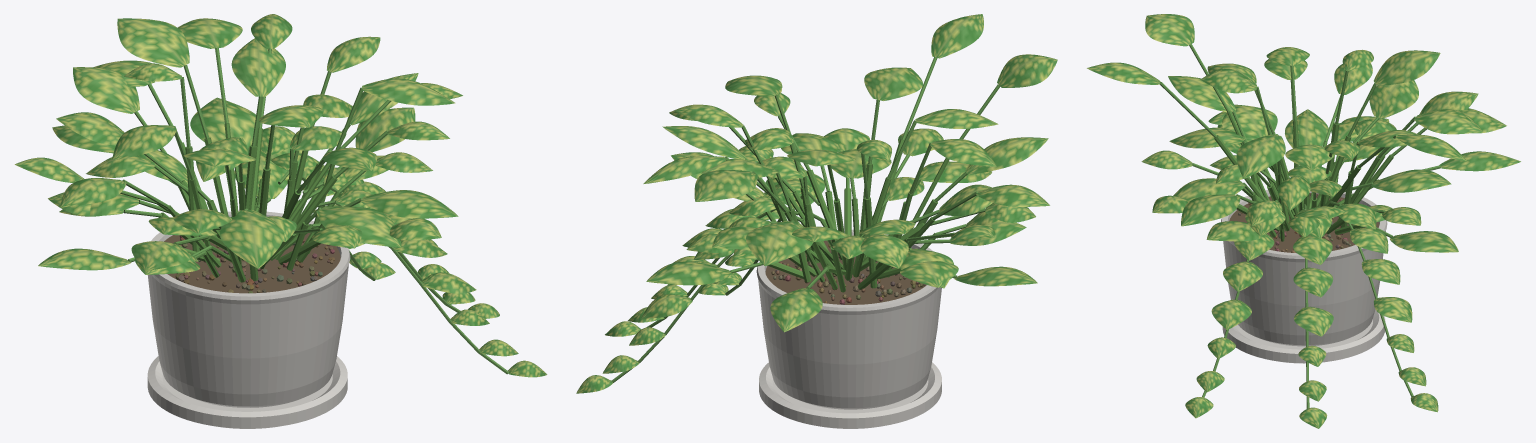
The model's file is Pothos_LUMA_3D.glb.
The picture shows the model from 3 angles, left to right: view 1: azimuth 30°, elevation 25°; view 2: azimuth 150°, elevation 25°; view 3: azimuth 270°, elevation 25°; orthographic projection. The views are drawn at different scales.
Visible parts, largest first — view 1: white ceramic pot, white saucer, dark soil, variegated pothos leaf_14, variegated pothos leaf_28, variegated pothos leaf_40, variegated pothos leaf_3, variegated pothos leaf_44, variegated pothos leaf_11, variegated pothos leaf_31, variegated pothos leaf_39, variegated pothos leaf_29 (+34 smaller); view 2: white ceramic pot, white saucer, dark soil, variegated pothos leaf_27, variegated pothos leaf_24, variegated pothos leaf_19, variegated pothos leaf_36, variegated pothos leaf_15, variegated pothos leaf_7, variegated pothos leaf_16, variegated pothos leaf_41, variegated pothos leaf_42 (+34 smaller); view 3: white ceramic pot, white saucer, variegated pothos leaf_14, variegated pothos leaf_39, variegated pothos leaf_7, variegated pothos leaf_9, variegated pothos leaf_31, variegated pothos leaf_11, variegated pothos leaf_41, variegated pothos leaf_24, variegated pothos leaf_33, variegated pothos leaf_16 (+43 smaller).
Boxes of the visible parts, x1,y1,x2,y2 form: white ceramic pot: [147, 211, 350, 407]; white saucer: [147, 356, 347, 428]; dark soil: [164, 233, 340, 293]; variegated pothos leaf_14: [117, 18, 189, 67]; variegated pothos leaf_28: [219, 209, 284, 268]; variegated pothos leaf_40: [73, 67, 139, 113]; variegated pothos leaf_3: [231, 38, 285, 96]; variegated pothos leaf_44: [316, 206, 401, 247]; variegated pothos leaf_11: [190, 97, 255, 148]; variegated pothos leaf_31: [360, 190, 458, 218]; variegated pothos leaf_39: [362, 78, 455, 105]; variegated pothos leaf_29: [355, 107, 415, 152]; white ceramic pot: [756, 229, 941, 409]; white saucer: [759, 362, 941, 428]; dark soil: [765, 240, 926, 304]; variegated pothos leaf_27: [746, 221, 813, 265]; variegated pothos leaf_24: [694, 170, 757, 201]; variegated pothos leaf_19: [770, 288, 822, 332]; variegated pothos leaf_36: [931, 14, 983, 58]; variegated pothos leaf_15: [864, 67, 922, 100]; variegated pothos leaf_7: [997, 54, 1057, 87]; variegated pothos leaf_16: [646, 261, 732, 285]; variegated pothos leaf_41: [965, 137, 1048, 174]; variegated pothos leaf_42: [662, 126, 746, 159]; white ceramic pot: [1221, 190, 1387, 346]; white saucer: [1222, 309, 1385, 363]; variegated pothos leaf_14: [1373, 50, 1440, 85]; variegated pothos leaf_39: [1236, 134, 1285, 178]; variegated pothos leaf_7: [1145, 14, 1194, 46]; variegated pothos leaf_9: [1369, 80, 1418, 118]; variegated pothos leaf_31: [1181, 194, 1240, 226]; variegated pothos leaf_11: [1371, 169, 1451, 192]; variegated pothos leaf_41: [1168, 76, 1235, 112]; variegated pothos leaf_24: [1414, 109, 1482, 134]; variegated pothos leaf_33: [1222, 104, 1277, 140]; variegated pothos leaf_16: [1390, 231, 1458, 252].
Size of the model in its own units: 2.16 by 1.46 by 2.14.
